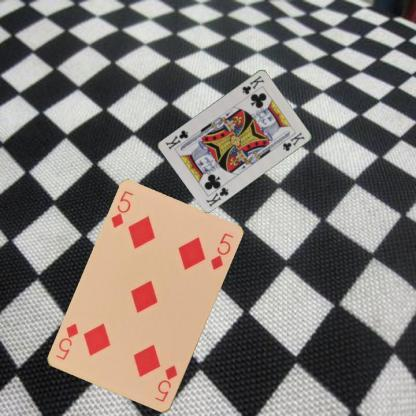5d: (152, 363, 179, 404), (109, 188, 135, 230)
Kc: (239, 72, 266, 96), (203, 184, 230, 208)
